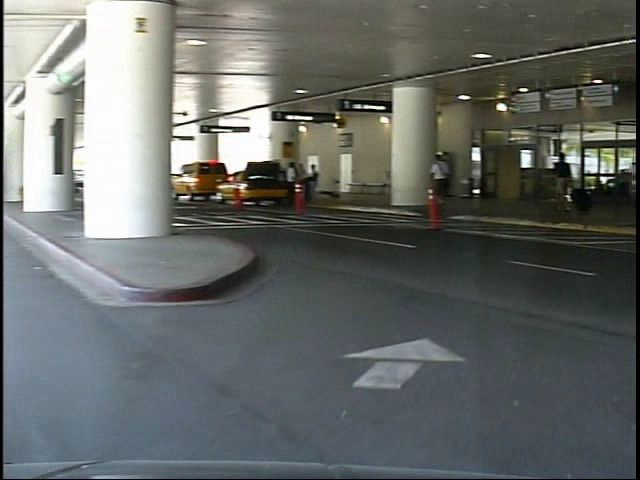person: (555, 146, 582, 222), (435, 150, 461, 215)
